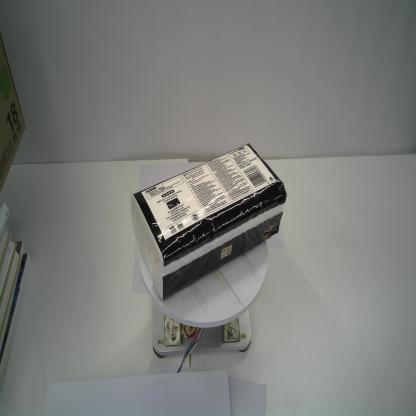Tissue: (130, 142, 288, 303)
